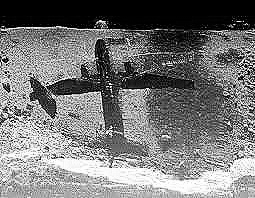plane: (31, 37, 196, 157)
